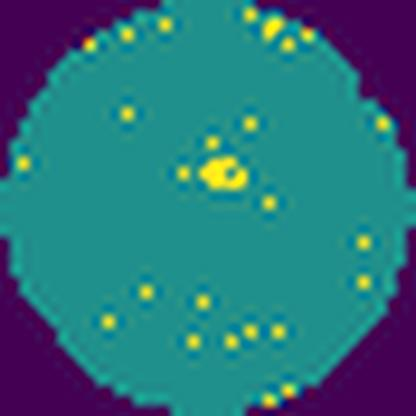Loc: (199, 156, 253, 194)
